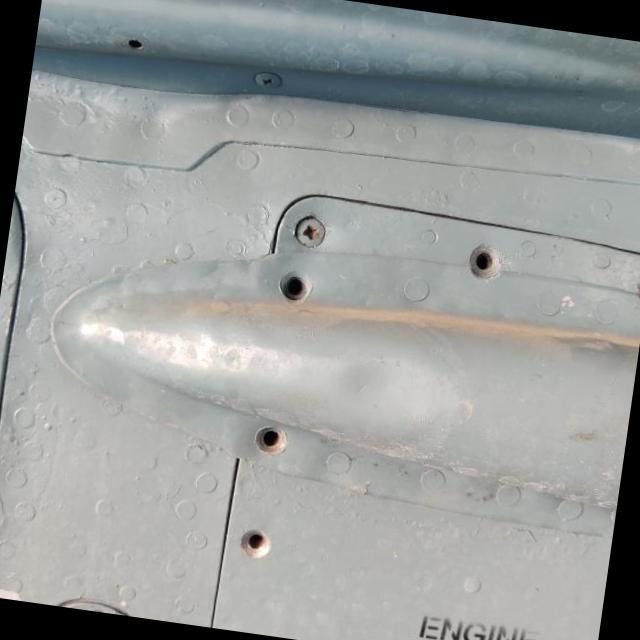Fastener Damage: (431, 212, 536, 310), (223, 394, 319, 486), (246, 246, 338, 332), (215, 501, 298, 585)
